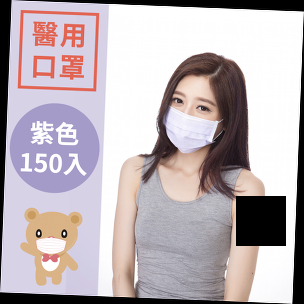with_mask: (163, 89, 225, 154)
